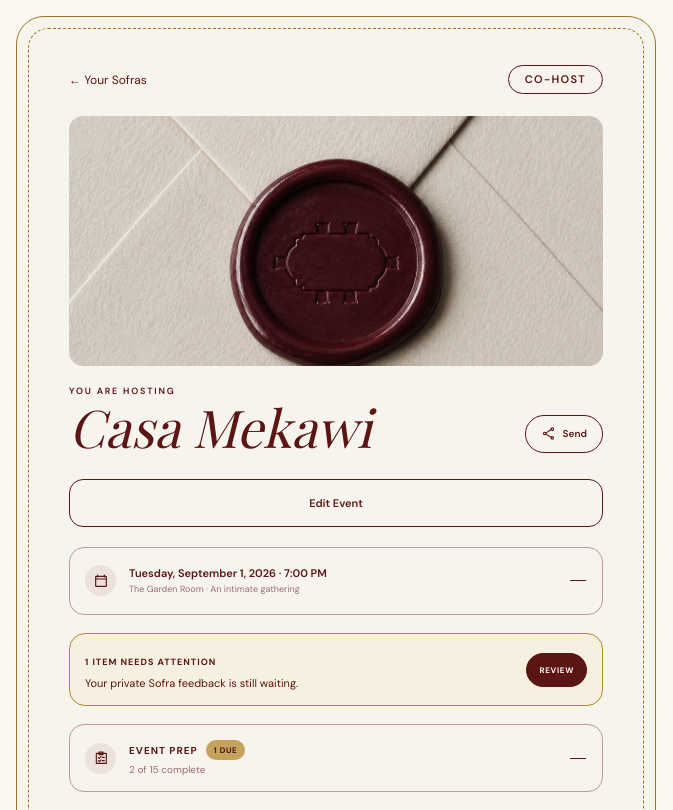
Scenario: Copy invite link button › changes button text to "Copied!" immediately after click
Step 1. Click the button "Send" → [564, 434], box [525, 415, 603, 453]
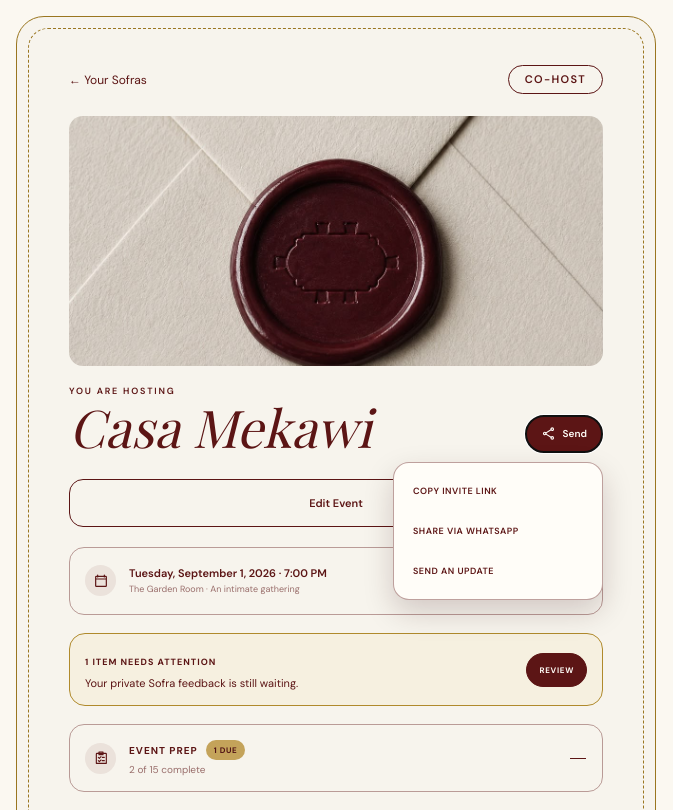
Now the button "COPY INVITE LINK" is shown
Step 2. Click the button "COPY INVITE LINK" → [498, 491], box [402, 471, 594, 511]
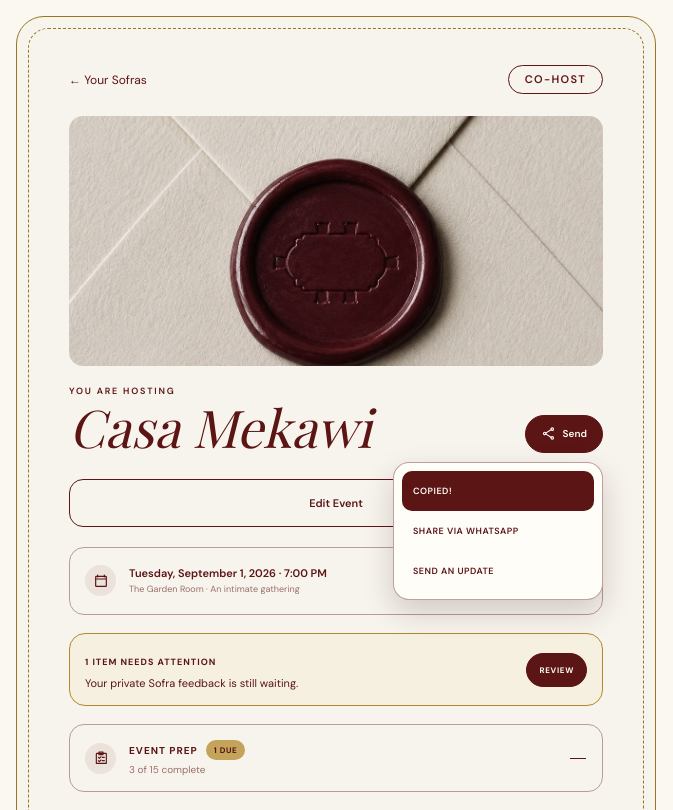
Now the button "COPIED!" is shown, box [402, 471, 594, 511]
